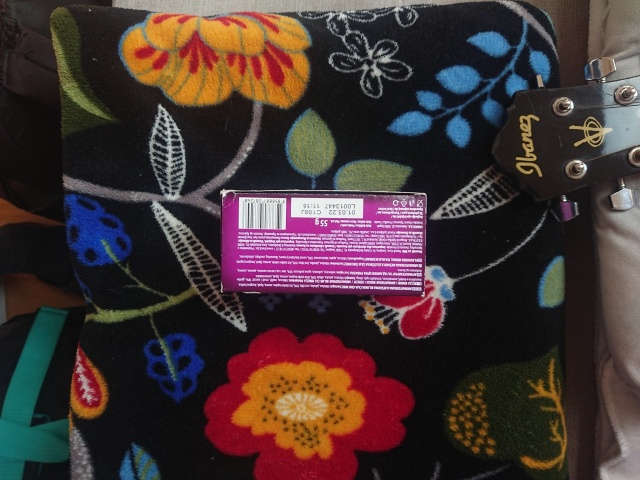Franck Black Currant Tea 60g: (217, 185, 430, 299)
